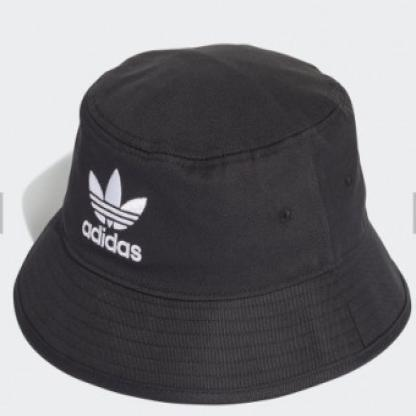hat: (6, 40, 411, 408)
